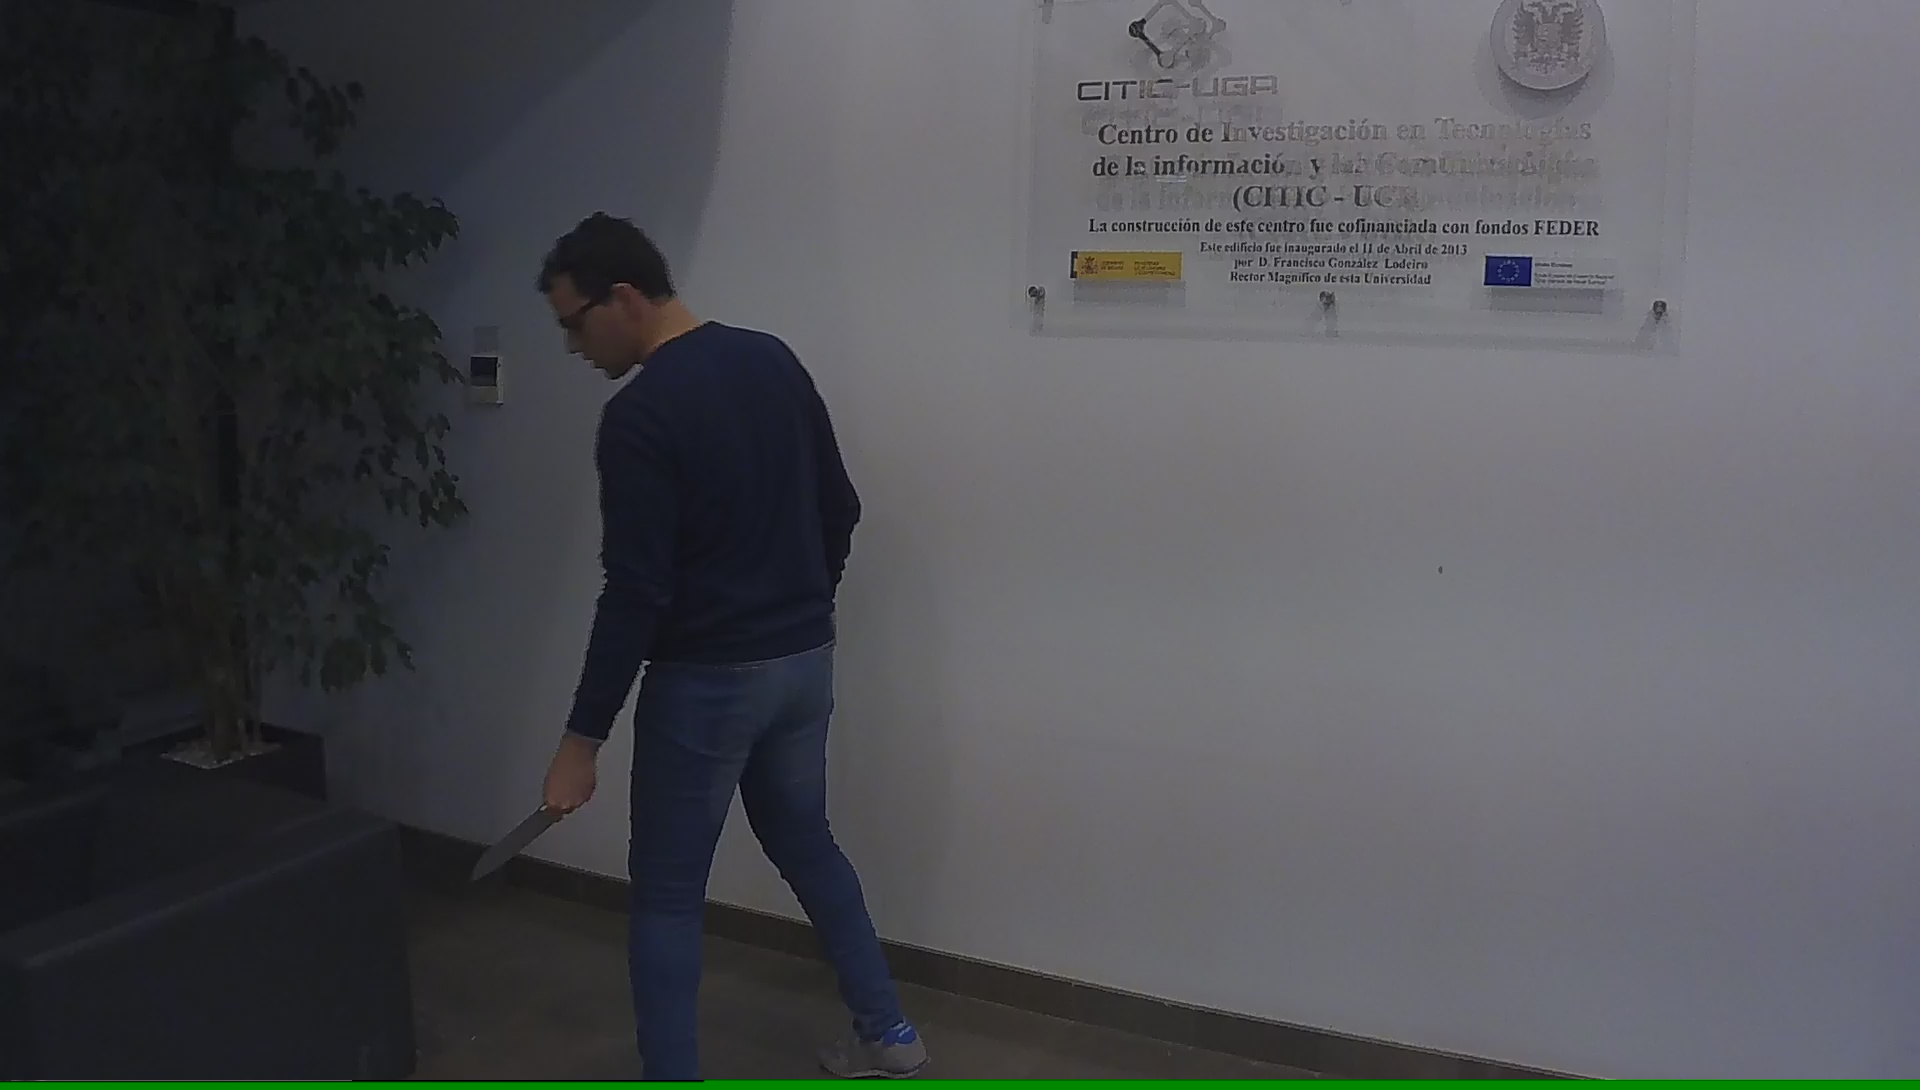knife: (462, 784, 585, 888)
